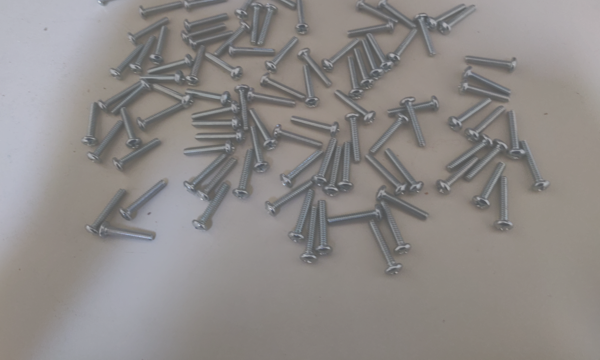longscrew: (121, 172, 169, 220), (385, 144, 426, 196), (464, 142, 513, 183), (435, 157, 484, 198), (377, 184, 431, 221), (363, 149, 405, 196), (136, 96, 187, 133), (381, 196, 411, 258), (195, 183, 232, 233), (282, 147, 328, 187), (367, 115, 414, 154), (370, 218, 401, 277), (522, 140, 555, 194), (87, 190, 126, 234), (89, 119, 127, 164), (264, 183, 314, 217), (114, 136, 162, 171), (185, 155, 231, 190), (472, 166, 511, 207), (199, 159, 240, 198), (445, 138, 496, 169), (326, 201, 384, 228), (288, 192, 318, 243), (100, 76, 141, 112), (384, 91, 438, 118), (334, 89, 375, 124), (466, 108, 511, 139), (447, 98, 492, 129), (110, 80, 149, 114), (205, 47, 246, 79), (461, 80, 511, 106), (248, 108, 278, 151), (495, 176, 518, 232), (110, 42, 143, 81), (321, 41, 361, 73), (310, 137, 336, 186), (385, 28, 419, 65), (299, 49, 332, 87), (265, 36, 303, 69), (465, 66, 511, 93), (131, 10, 171, 41), (403, 95, 425, 151), (146, 49, 194, 74), (216, 21, 250, 56), (414, 10, 437, 61), (316, 198, 335, 259), (302, 204, 321, 265), (97, 222, 158, 241), (273, 124, 323, 147), (438, 6, 477, 35), (427, 3, 466, 32), (345, 15, 396, 37), (236, 149, 257, 201), (379, 0, 417, 28), (263, 74, 305, 99), (182, 138, 234, 158), (181, 18, 226, 41), (343, 56, 367, 99), (189, 98, 238, 119), (131, 35, 158, 73), (120, 103, 142, 149), (357, 0, 399, 24), (151, 83, 193, 107), (289, 115, 339, 135), (361, 41, 388, 78), (186, 8, 229, 31), (365, 34, 392, 70), (352, 52, 379, 88), (224, 40, 275, 59), (251, 122, 269, 175), (506, 112, 525, 162), (188, 27, 235, 47), (326, 139, 343, 194), (187, 41, 207, 86), (292, 0, 316, 37), (242, 91, 300, 106), (303, 63, 321, 110), (463, 55, 516, 70), (140, 0, 184, 18), (82, 102, 100, 146), (259, 5, 279, 44), (236, 84, 252, 131), (149, 27, 169, 64), (191, 128, 244, 141), (136, 68, 183, 82), (341, 142, 353, 193), (192, 116, 239, 129), (249, 4, 264, 44), (349, 113, 360, 164), (186, 89, 231, 100), (182, 0, 230, 10), (235, 0, 263, 17), (253, 0, 296, 8), (94, 0, 141, 6)
